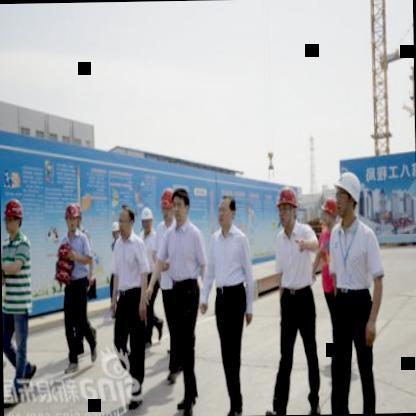head: (216, 190, 240, 232), (170, 186, 191, 227), (116, 201, 136, 239)
helmet: (332, 170, 363, 223), (274, 181, 300, 229), (1, 194, 24, 236), (319, 191, 340, 228), (159, 184, 175, 226), (63, 198, 81, 234), (140, 202, 154, 236), (110, 218, 122, 242)
